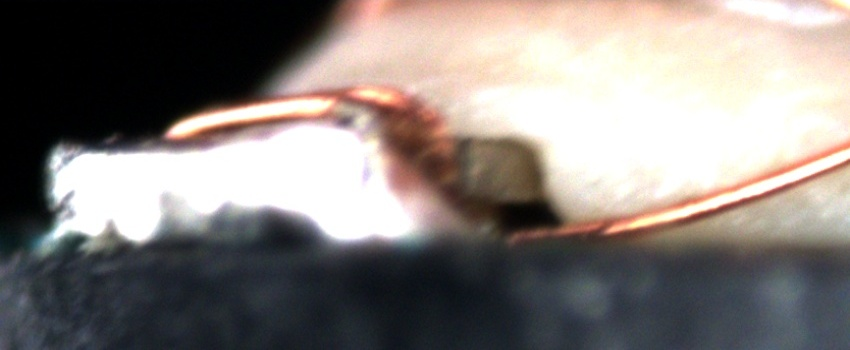TE: (152, 81, 434, 136)
